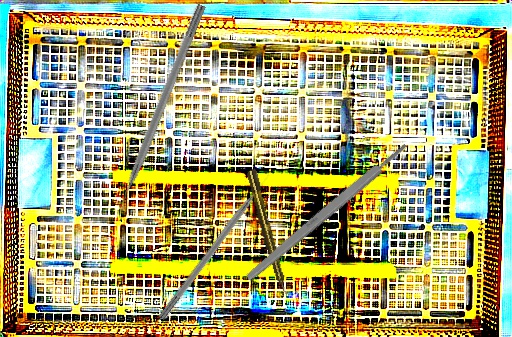Handpiece: (245, 167, 291, 299)
Pusher: (109, 2, 207, 219), (157, 172, 275, 322)
Scalpel Handle: (244, 141, 410, 283)
